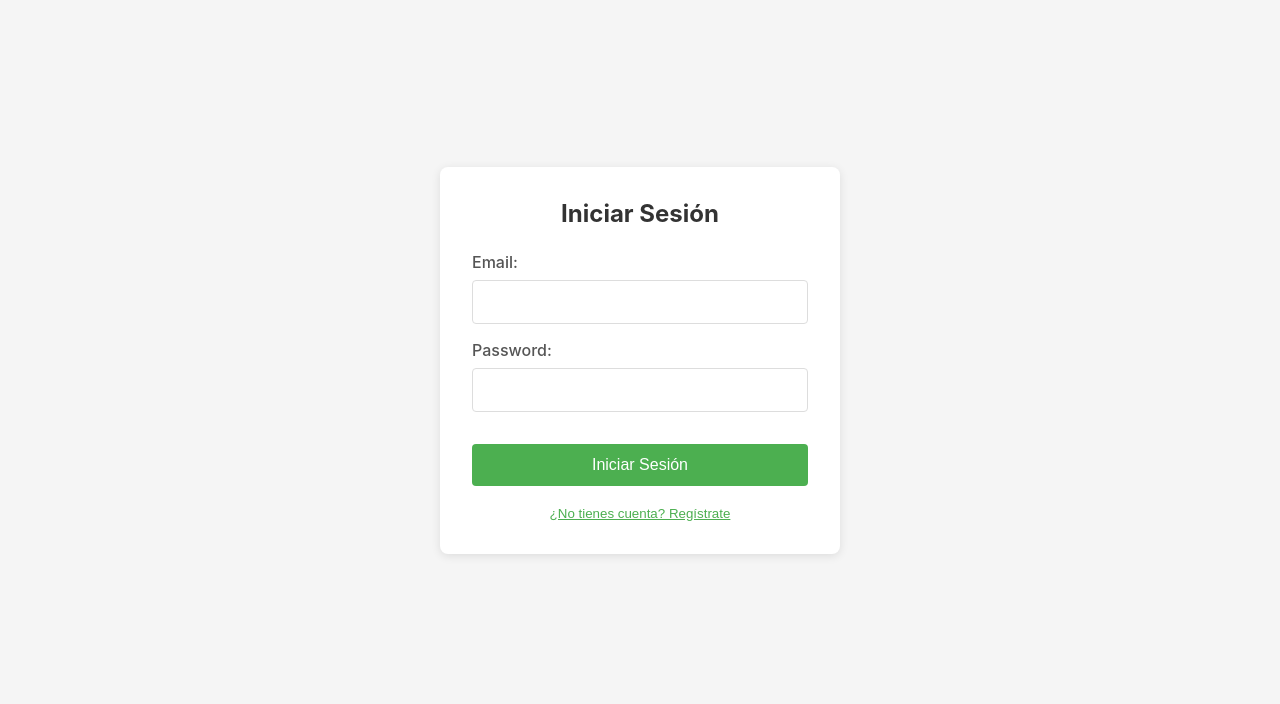
Test: Posts Management › debería listar posts existentes
This screenshot has width=1280, height=704.
Step 1. Type "test@example.com" into the field with id "email" → (640, 302), box 472,280 -> 808,324
Step 2. Type "123456" into the password field labelled "Password:" → (640, 390), box 472,368 -> 808,412
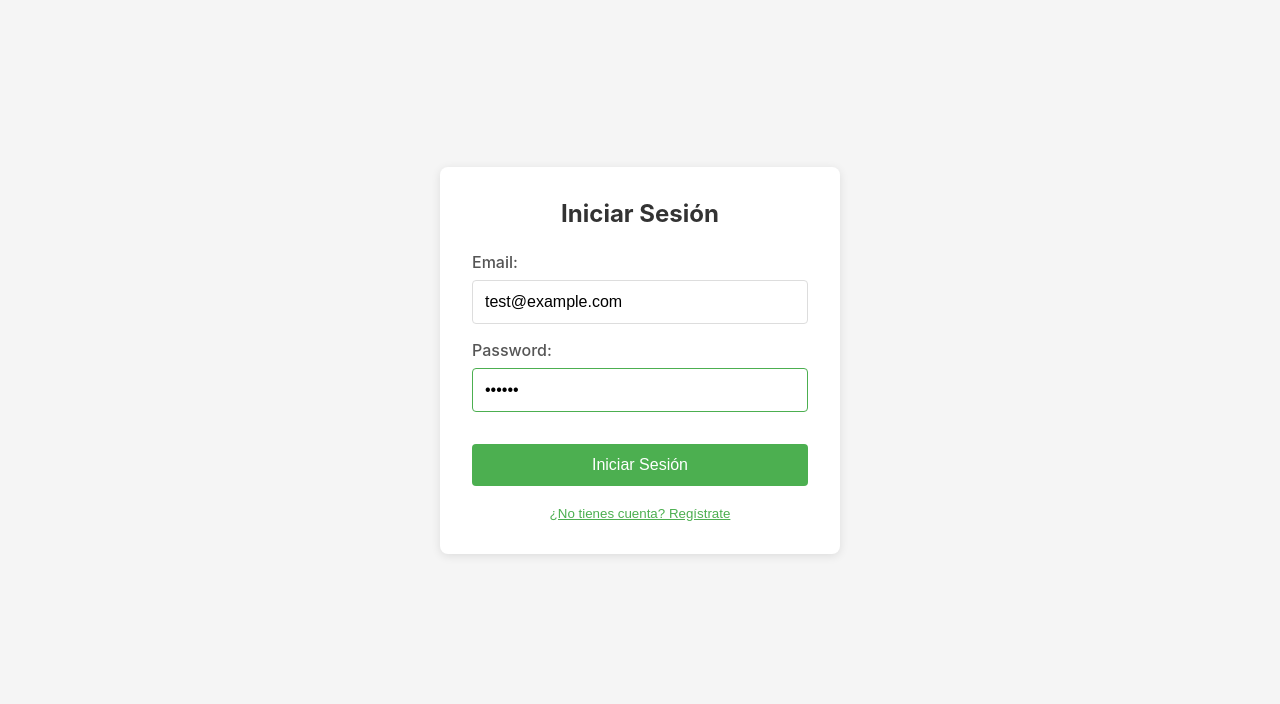
Step 3. Click the submit button → (640, 465), box 472,444 -> 808,486
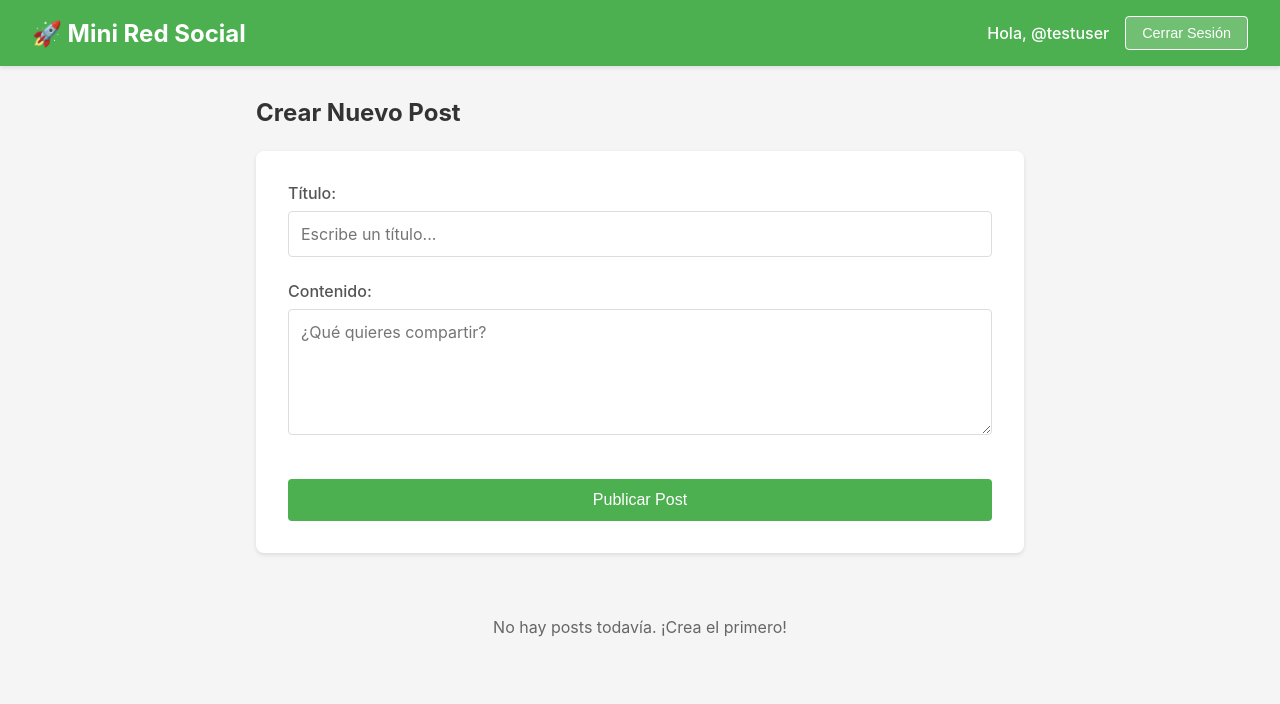
Step 4. Open "/"
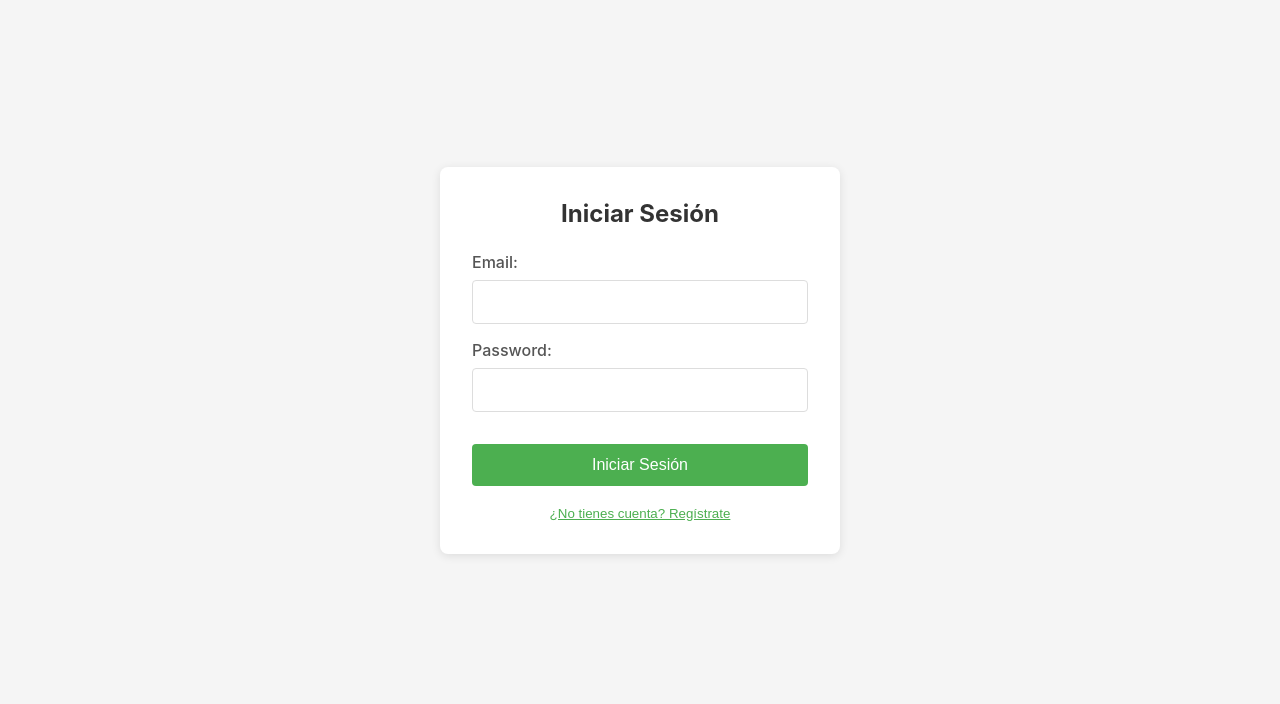
Step 5. Type "test@example.com" into the field with id "email" → (640, 302), box 472,280 -> 808,324
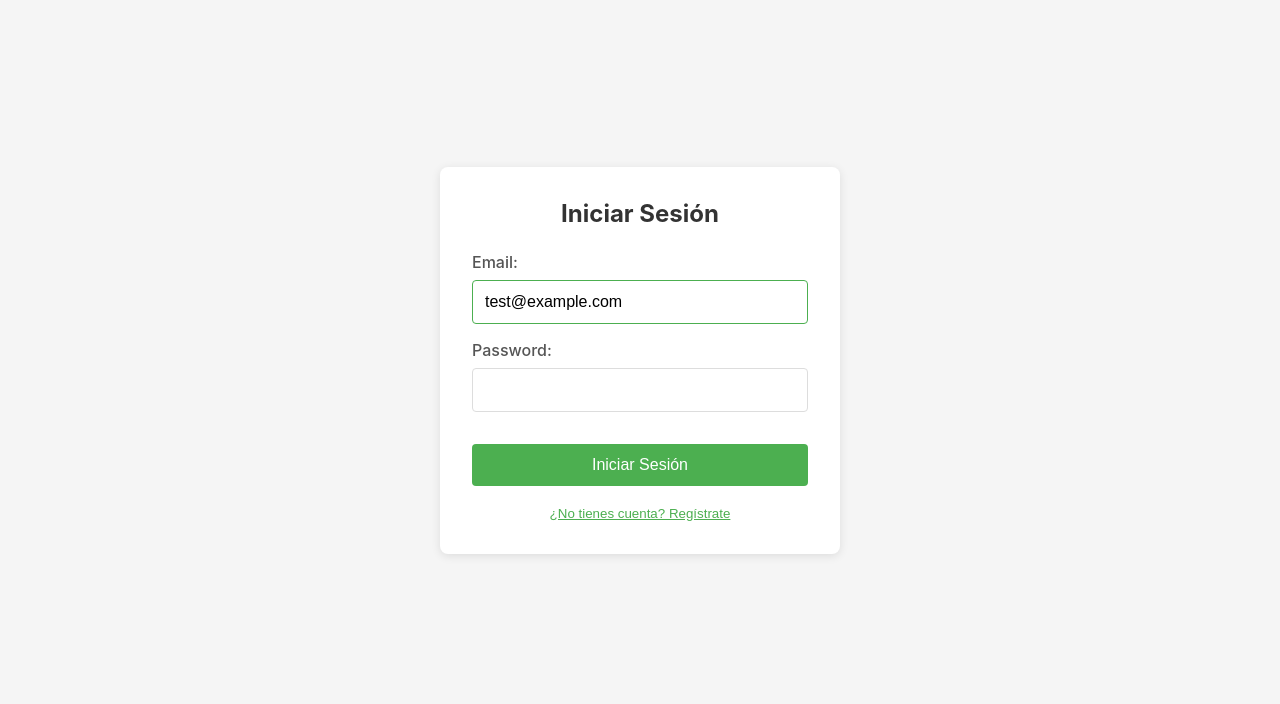
Step 6. Type "123456" into the password field labelled "Password:" → (640, 390), box 472,368 -> 808,412
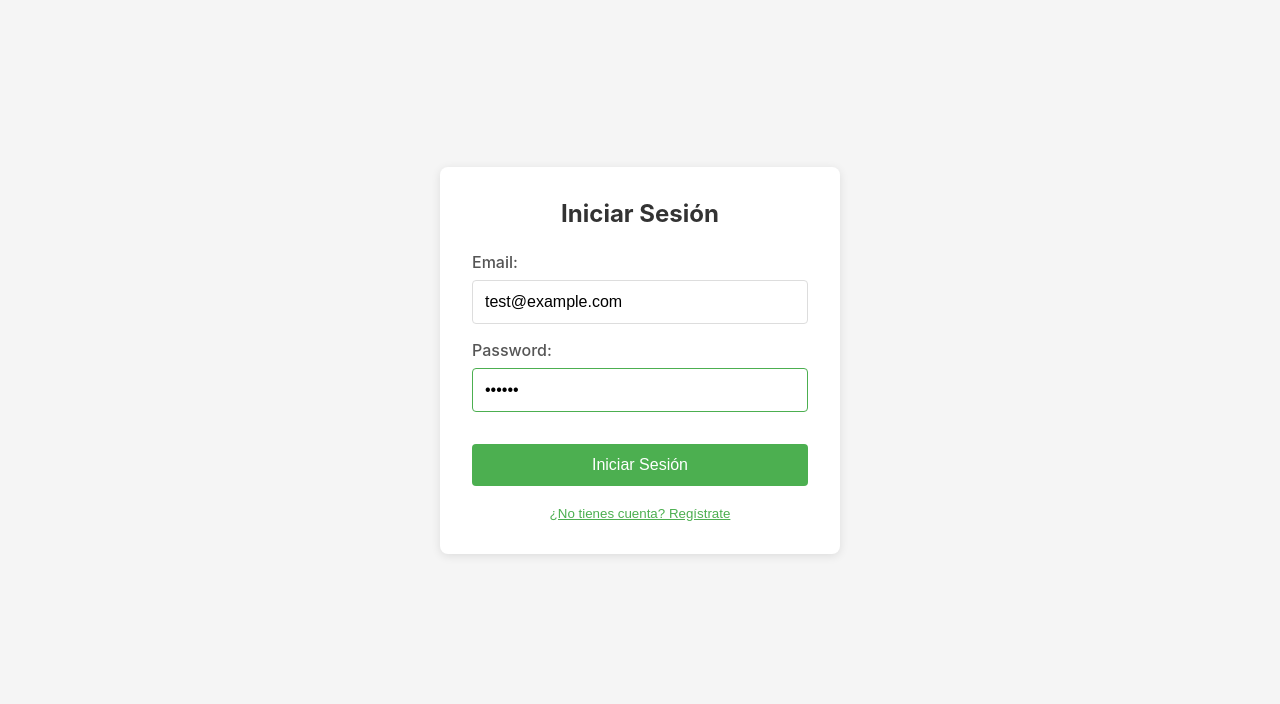
Step 7. Click the submit button → (640, 465), box 472,444 -> 808,486
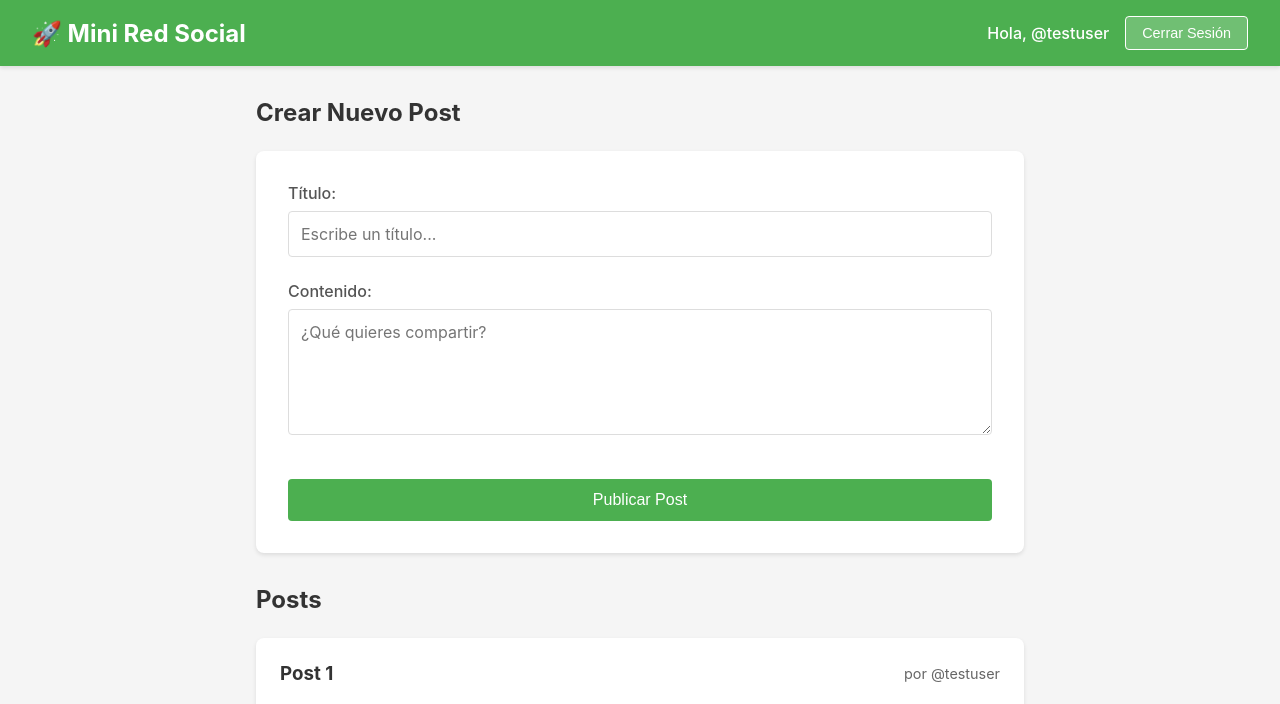
Expected: the heading "Post 1" is shown, 280,662 -> 333,685
Expected: the text "@testuser" is shown, 987,23 -> 1109,43
